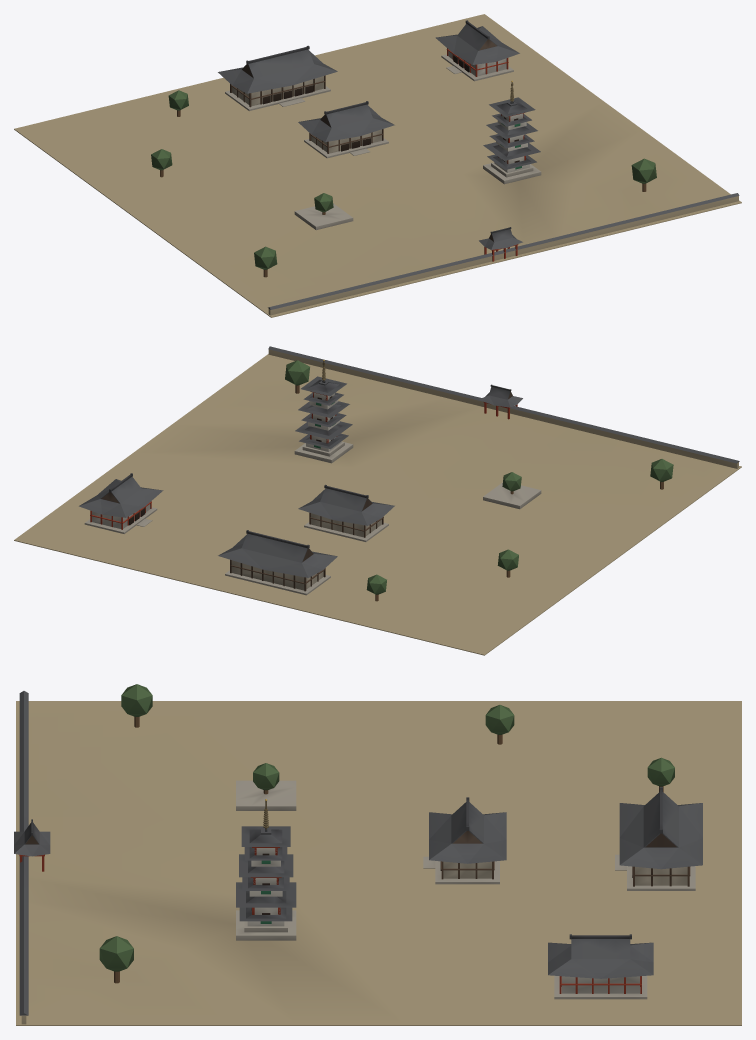
File: yakushiji-1700.glb
3 renders of one model, top to bottom at view 1: azimuth 30°, elevation 25°; view 2: azimuth 150°, elevation 25°; view 3: azimuth 270°, elevation 25°, orthographic. The views are drawn at different scales.
Parts seen in each view (by area): view 1: p0_grounds, p2_roofs, p1_halls; view 2: p0_grounds, p2_roofs, p1_halls; view 3: p0_grounds, p2_roofs, p1_halls.
Part boxes in pixels (x1,y1,x2,y2): p0_grounds: (14, 14, 741, 317); p2_roofs: (151, 20, 656, 277); p1_halls: (225, 48, 522, 261); p0_grounds: (14, 346, 741, 655); p2_roofs: (79, 360, 673, 601); p1_halls: (84, 384, 522, 595); p0_grounds: (16, 691, 741, 1025); p2_roofs: (99, 684, 702, 983); p1_halls: (14, 819, 695, 999).
Size of the model in its own units: 190 by 35.55 by 180.
